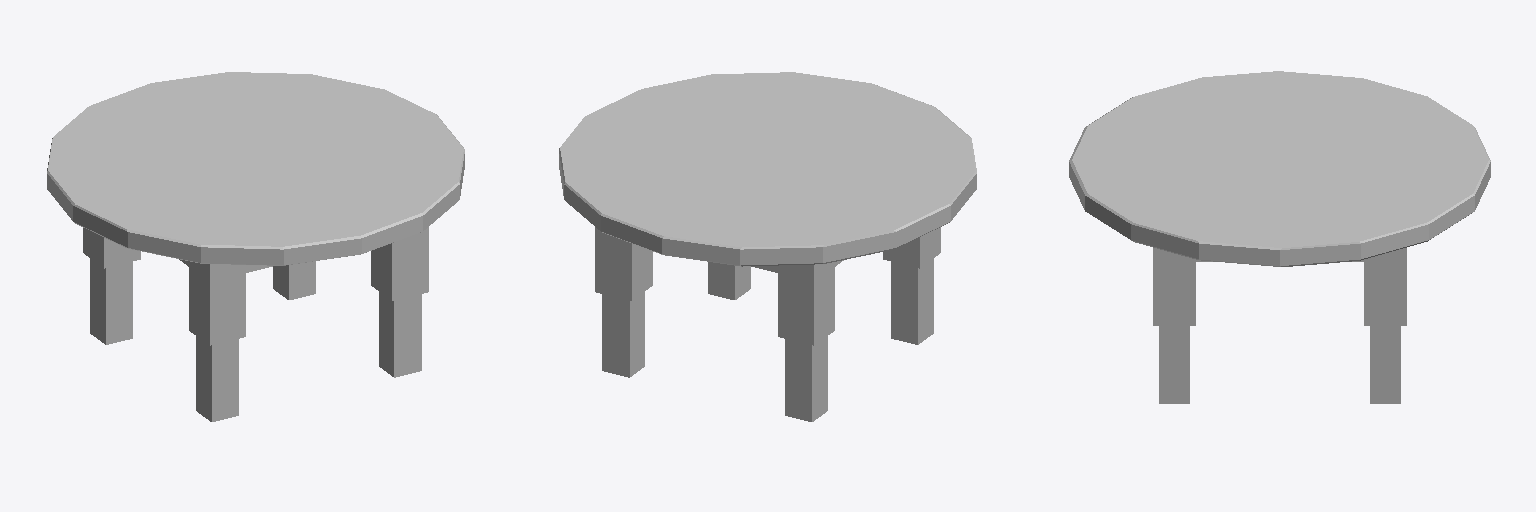
File: table-round.obj
3 renders of one model, left to right at view 1: azimuth 30°, elevation 25°; view 2: azimuth 150°, elevation 25°; view 3: azimuth 270°, elevation 25°, orthographic.
Parts seen in each view (by area): view 1: table_Cube.001; view 2: table_Cube.001; view 3: table_Cube.001.
Boxes of the visible parts, <box> form: table_Cube.001: <box>47,72,464,421</box>; table_Cube.001: <box>559,72,976,421</box>; table_Cube.001: <box>1069,71,1490,403</box>.
Size of the model in its own units: 1.2 by 0.605 by 1.2.